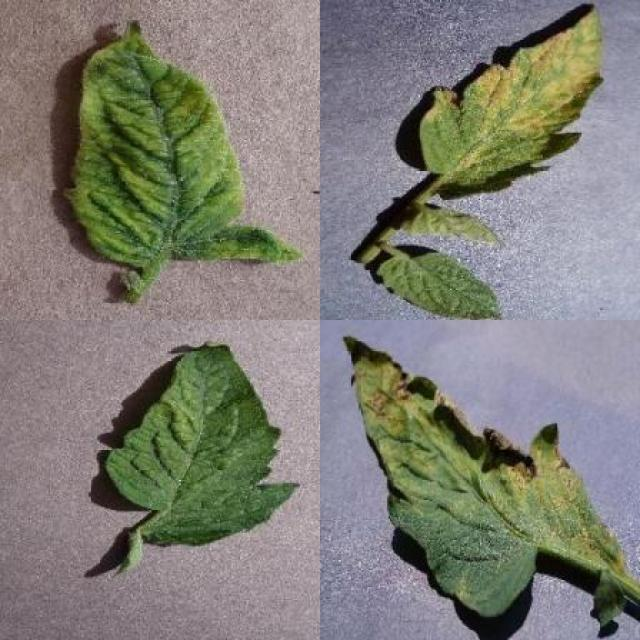Healthy: (375, 247, 502, 320)
Leaf Mold: (420, 3, 606, 203)
Septoria: (343, 332, 624, 619)
Spider Mites: (105, 340, 298, 546)
Yellow Leaf Curl Virus: (64, 18, 306, 272)
